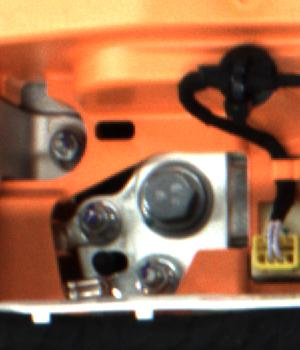nut_b: (133, 160, 206, 233)
screw_s: (76, 201, 115, 242), (134, 253, 171, 295), (45, 125, 80, 161)
